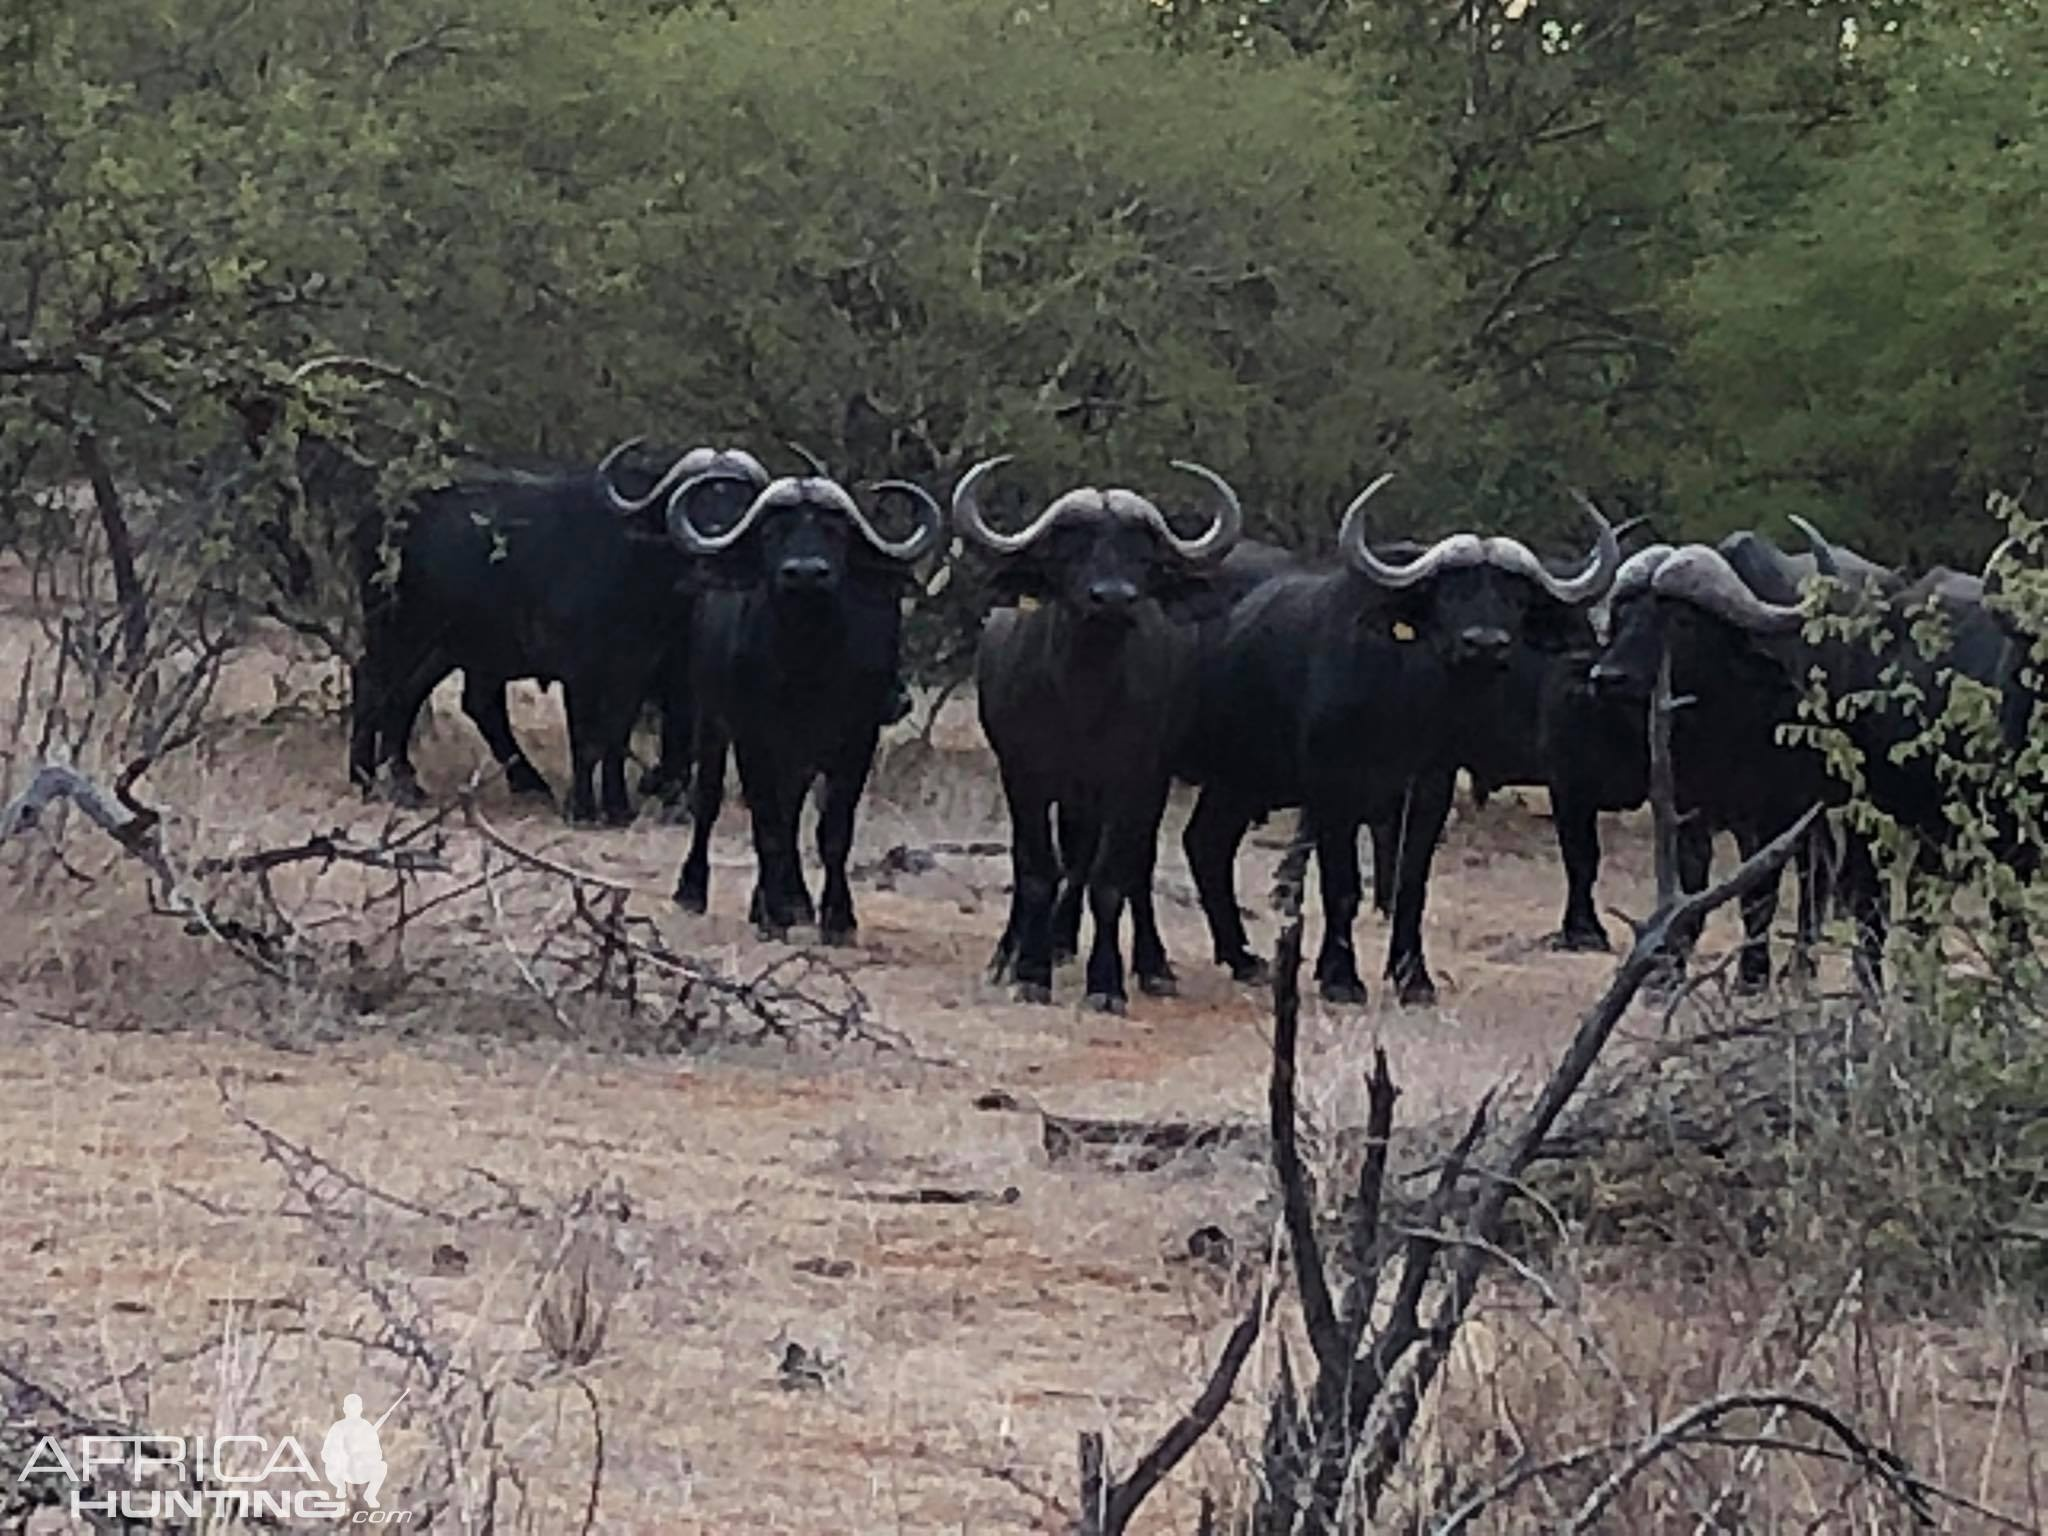buffalo: (1401, 745, 1829, 1284), (1077, 728, 1337, 1300), (798, 707, 1082, 1202), (1784, 753, 2048, 1238)
